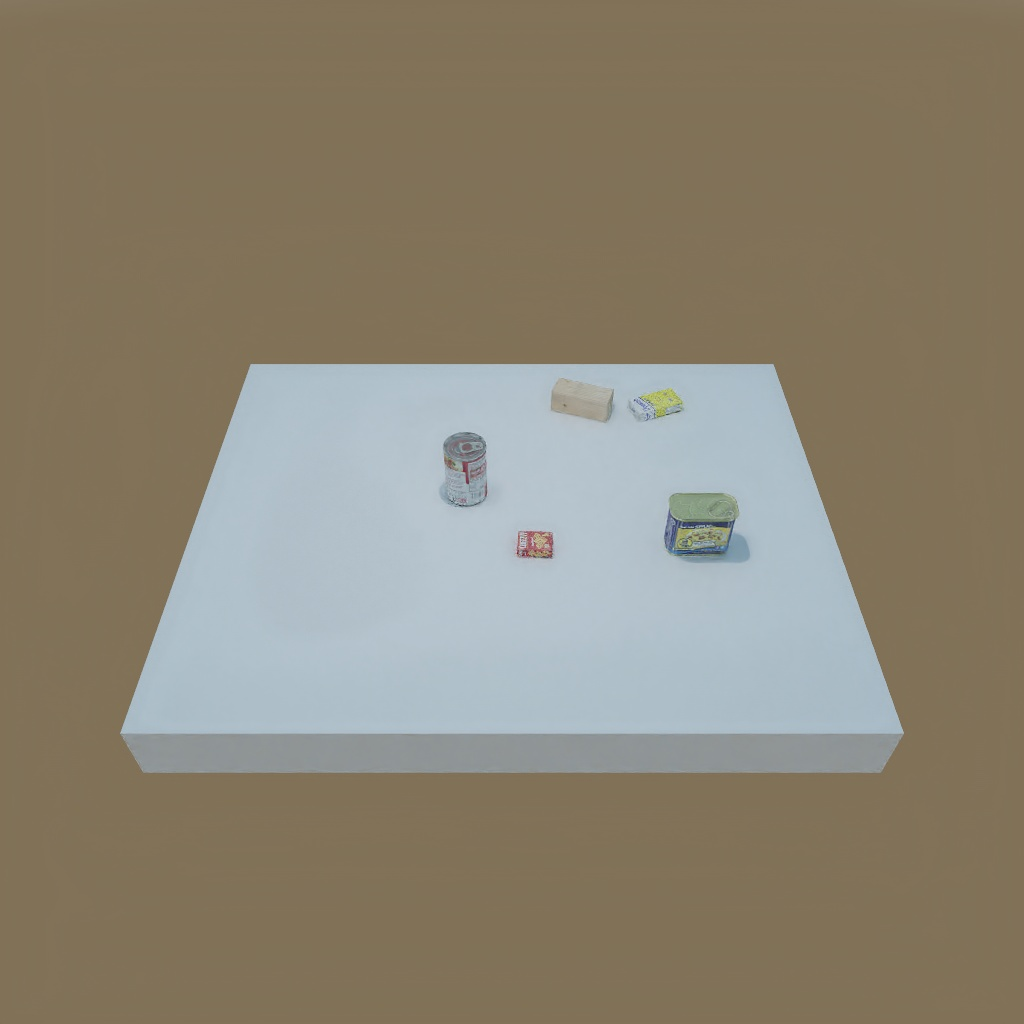potted_meat_can: (664, 490, 732, 558)
tomato_soup_can: (439, 428, 490, 509)
wood_block: (547, 378, 619, 421)
